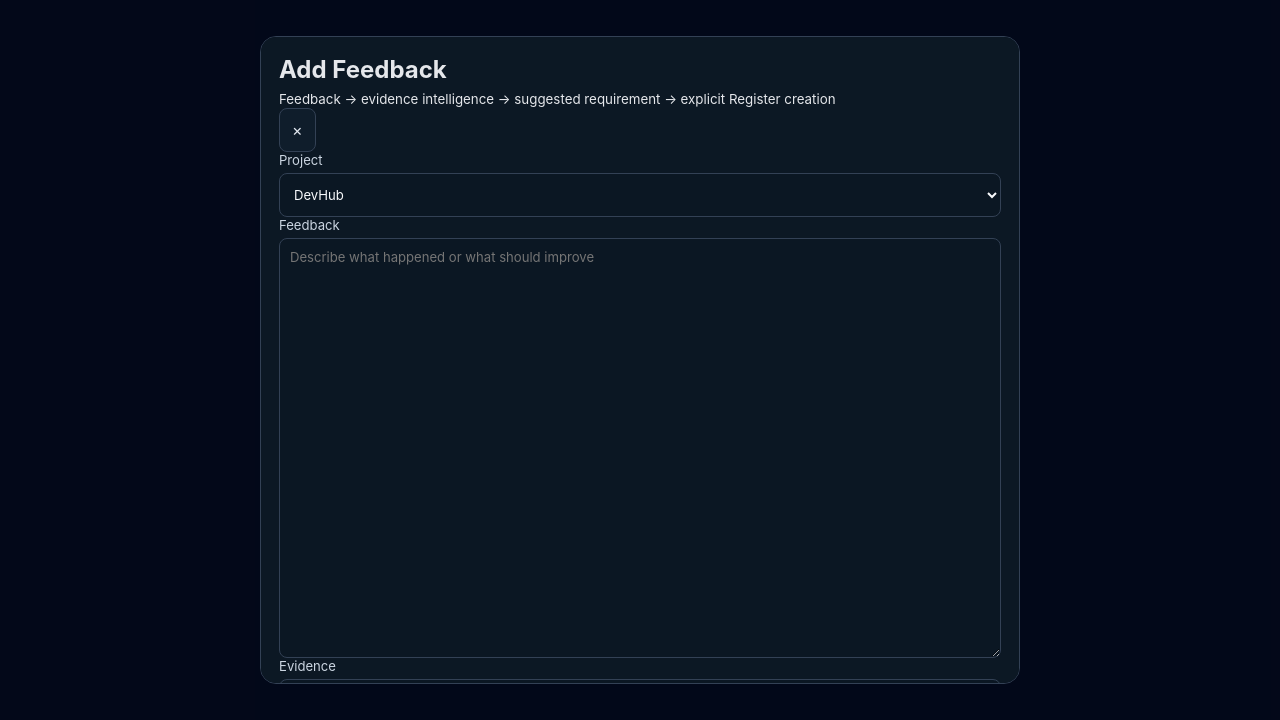
Test case: AssistedFeedbackModal › keeps the non-AI path available when AI is not configured
Type "The mobile page scrolls sideways" into the text box with placeholder "Describe what happened or what should improve" at (640, 448), box x1=279 y1=238 x2=1001 y2=658
(page scrolled)
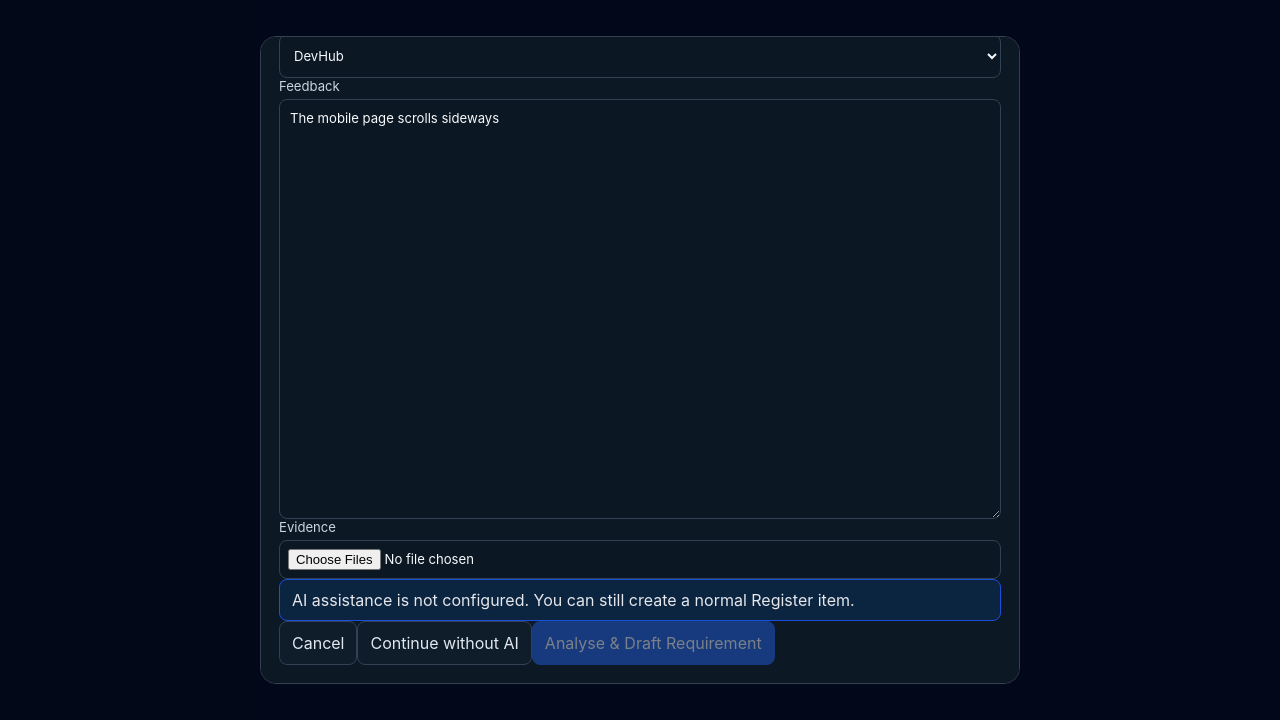
Click the button "Continue without AI" at (445, 643), box x1=358 y1=621 x2=532 y2=665
(page scrolled)
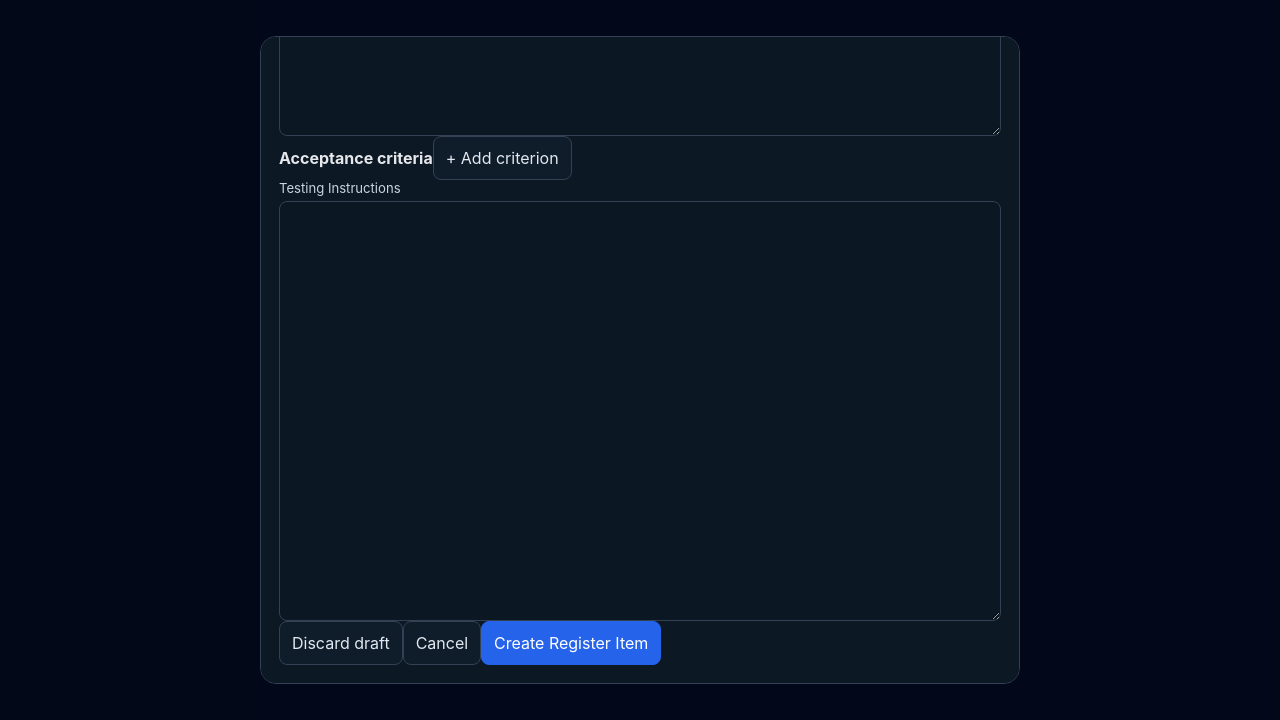
Result: the button "Create Register Item" is shown at x1=481 y1=621 x2=661 y2=665
